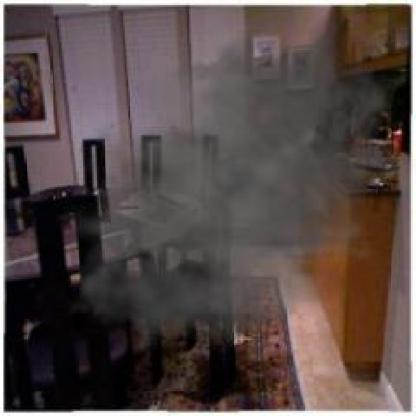Smoke: (50, 10, 414, 378)
